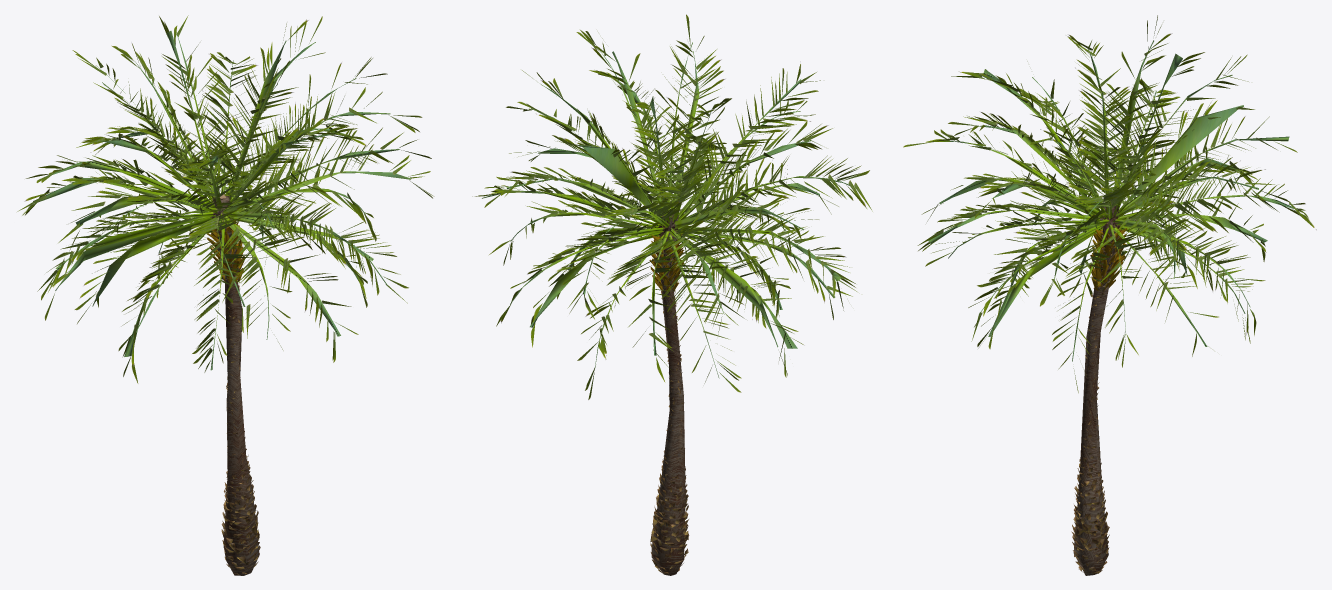
Rendered from phoenix_2_lod.glb.
The picture shows the model from 3 angles, left to right: view 1: azimuth 30°, elevation 25°; view 2: azimuth 150°, elevation 25°; view 3: azimuth 270°, elevation 25°; orthographic projection. The views are drawn at different scales.
Parts seen in each view (by area): view 1: Phoenix_Sylvestris_Small04; view 2: Phoenix_Sylvestris_Small04; view 3: Phoenix_Sylvestris_Small04.
Boxes of the visible parts, box(x1,y1,x2,y2) form: Phoenix_Sylvestris_Small04: box(17, 15, 434, 575); Phoenix_Sylvestris_Small04: box(472, 14, 872, 575); Phoenix_Sylvestris_Small04: box(903, 15, 1316, 575).
Size of the model in its own units: 7.93 by 10.92 by 7.85.
Materials: 6 (6 with a texture image).
